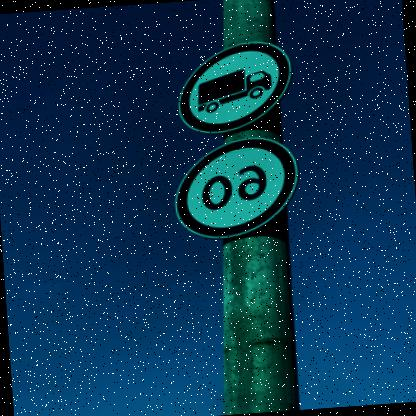speedlimit: (173, 135, 302, 240)
